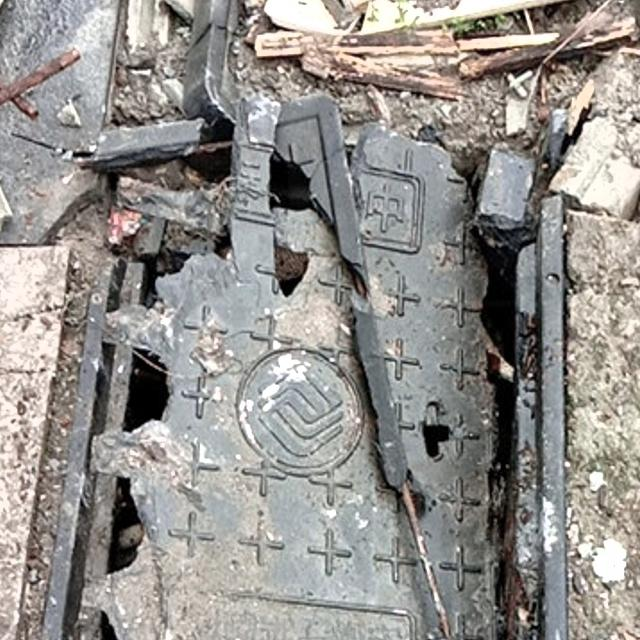broke: (2, 114, 607, 640), (124, 0, 640, 67)
